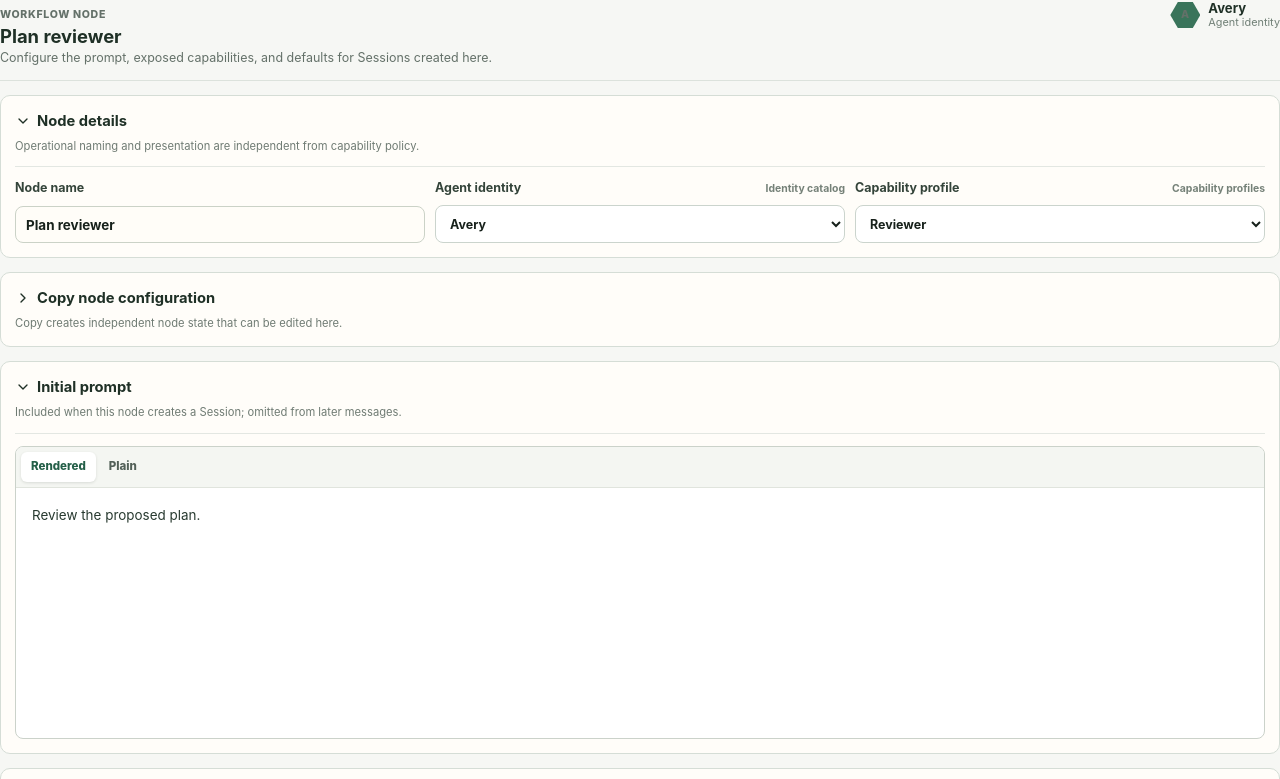
Test: Execution Configuration editors › keeps node edits controlled and delegates copy semantics to the caller
expect the element named "Avery, Agent identity" is shown: met, box [1170,0,1279,30]
Click the button with aria-label "Expand Copy node configuration" at point(115, 298), box [10,283,220,313]
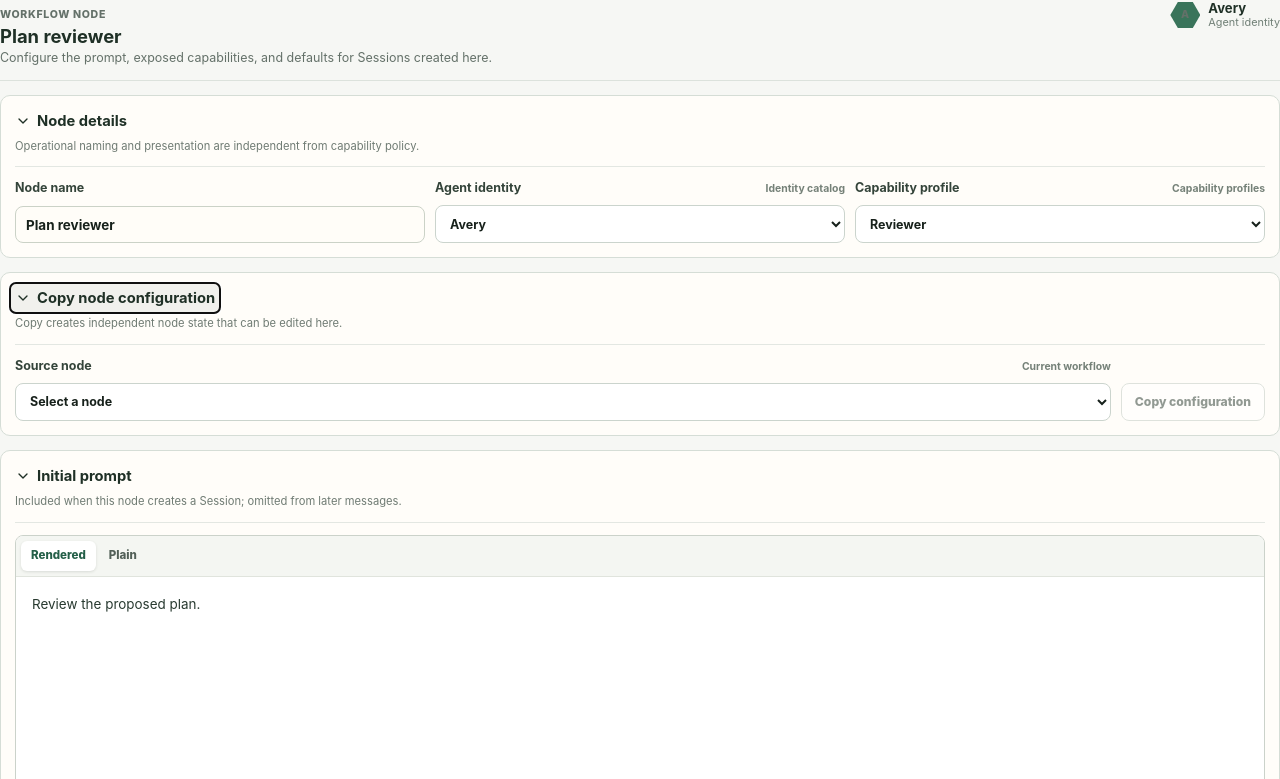
expect the element "Copy node configuration" is shown: met, box [0,272,1279,436]
Select "Implementer" in the dropdown labelled "Source node" at point(563, 402), box [15,383,1111,421]
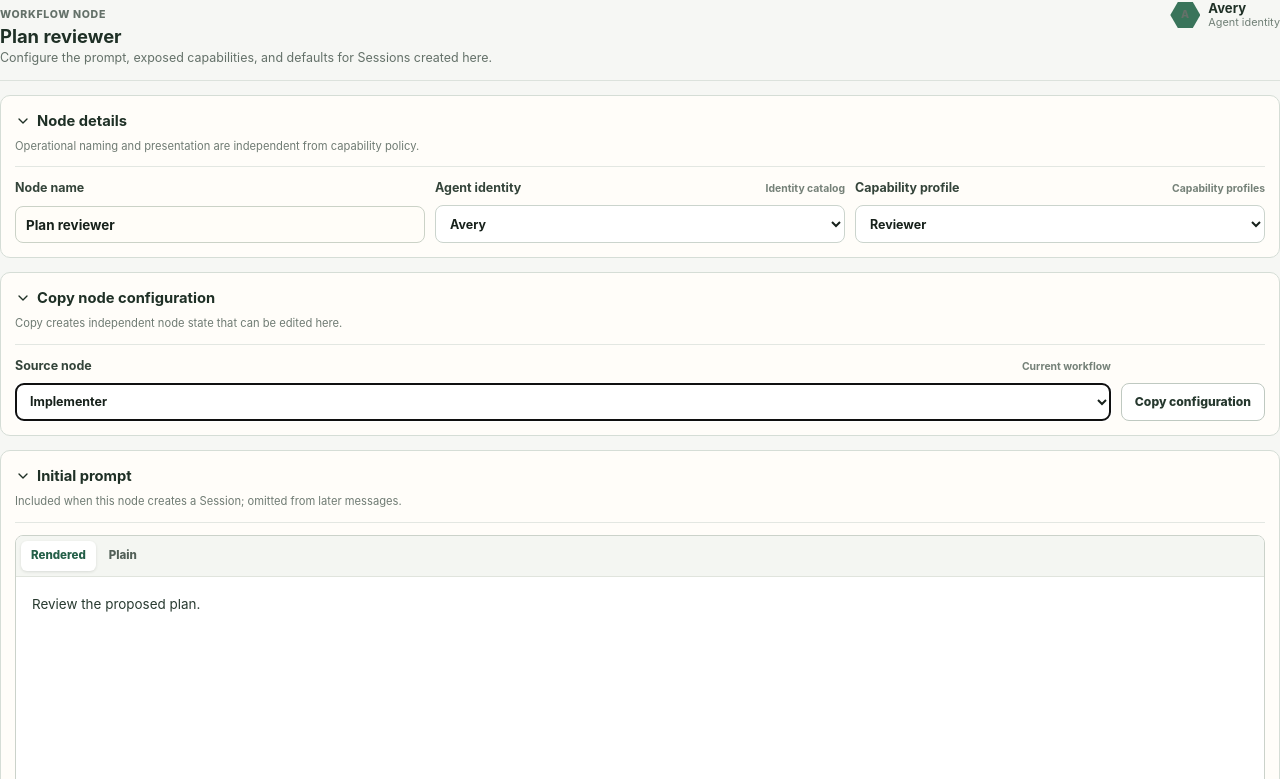
Click the button "Copy configuration" at point(1193, 402), box [1121,383,1265,421]
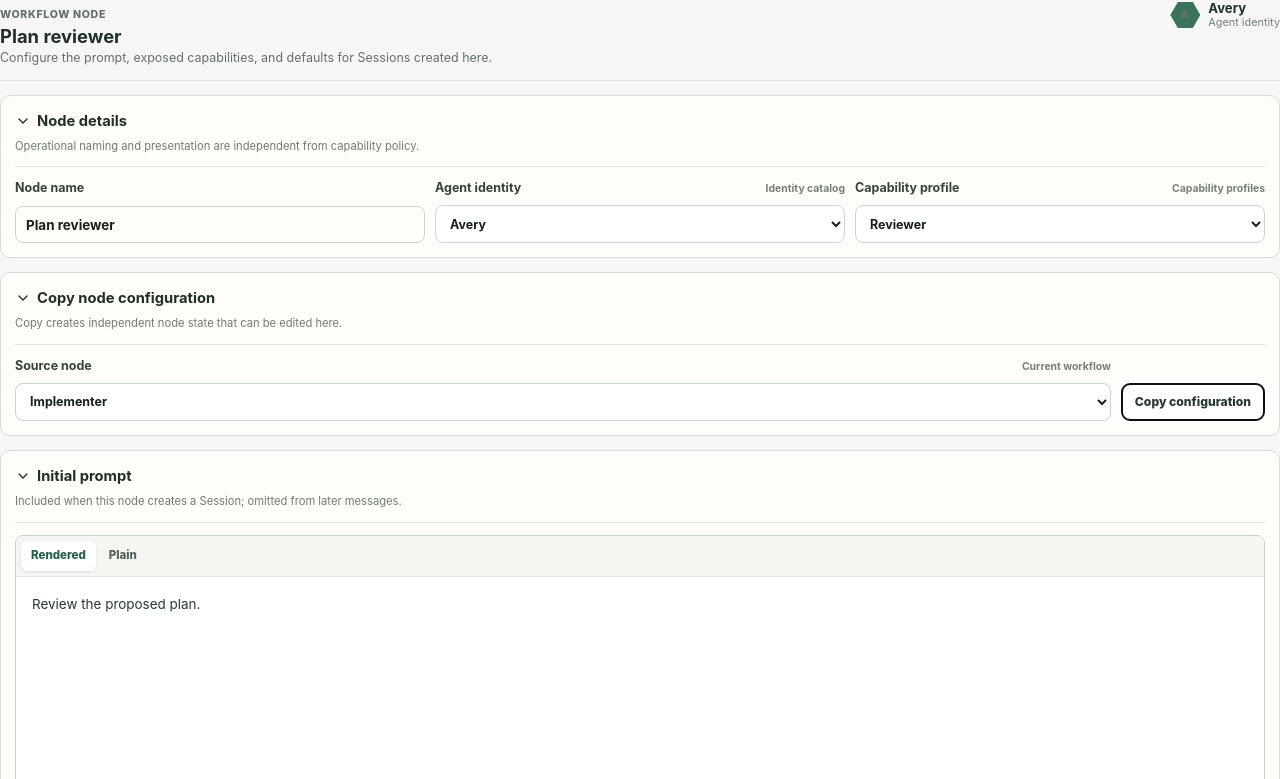
Replace the text in the field labelled "Node name" with "Merge reviewer" at point(220, 225), box [15,206,425,243]
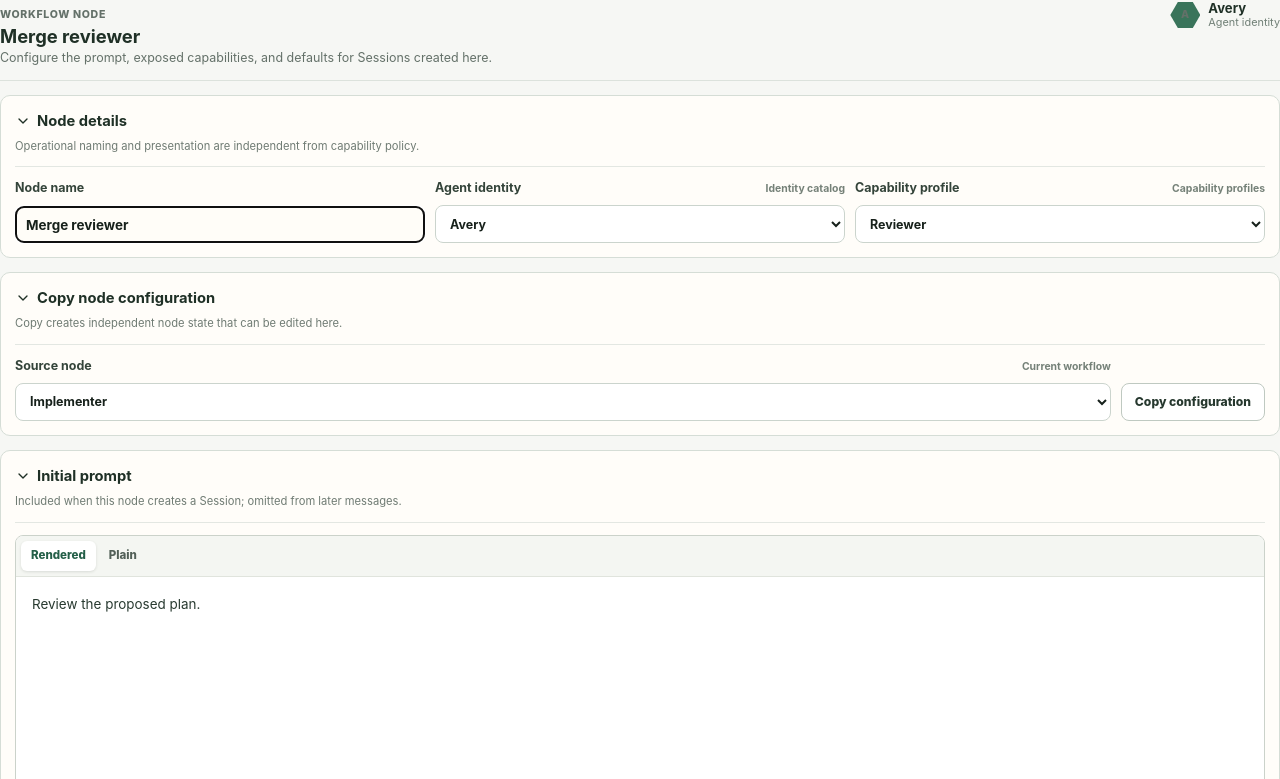
expect the heading "Merge reviewer" is shown: met, box [0,25,140,47]
